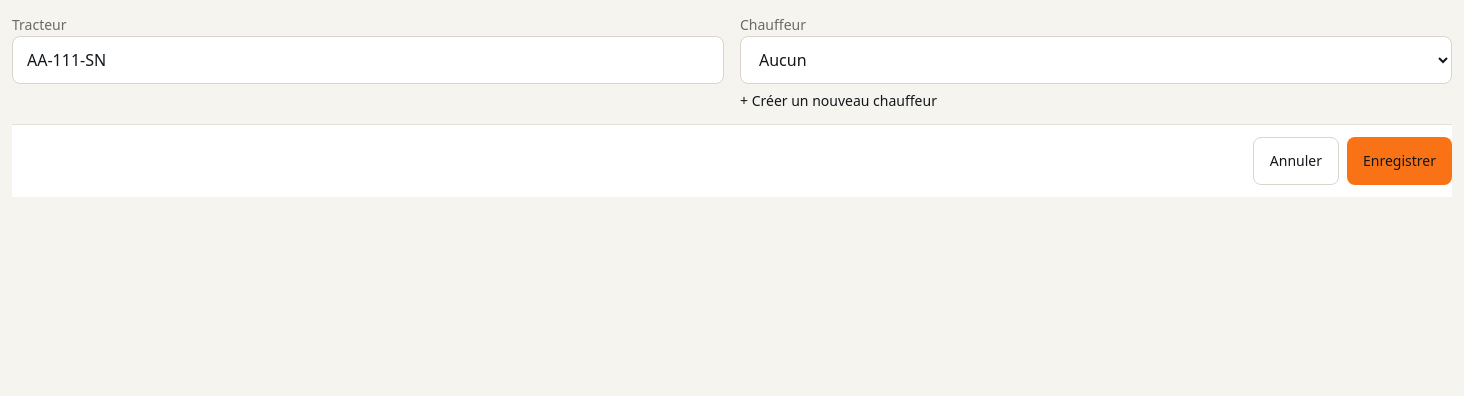
it: EntityForm › quick-create on a select field › creates the record, selects it, and never loses other form values already entered
The width and height of the screenshot is (1464, 396).
Click the button with test id "quick-create-toggle-default_driver" at [838, 101], box top-left (740, 91), bottom-right (937, 111)
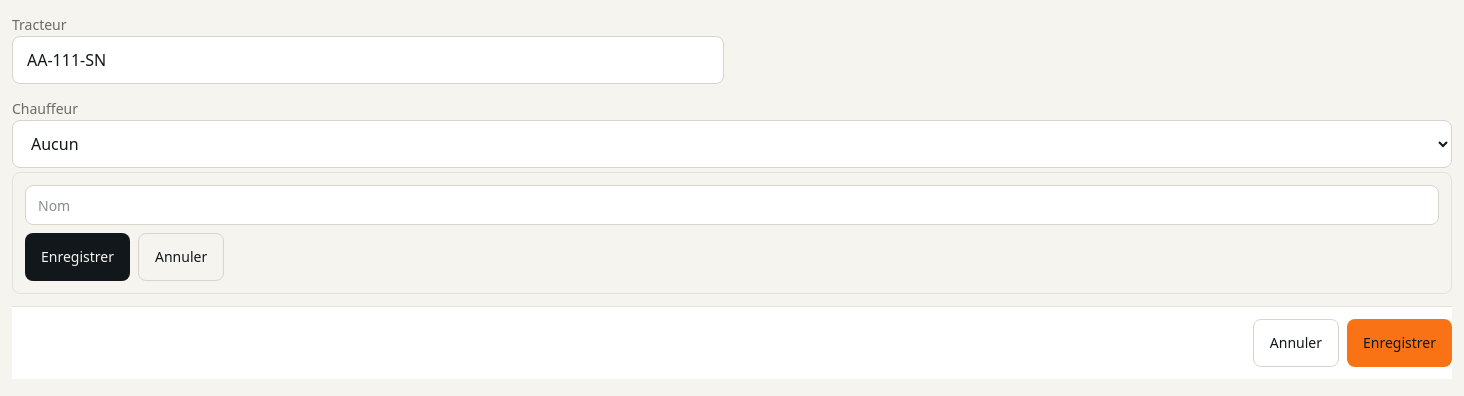
Type "Ibrahim Kone" into the field with id "default_driver_name" at [732, 205], box top-left (25, 185), bottom-right (1439, 225)
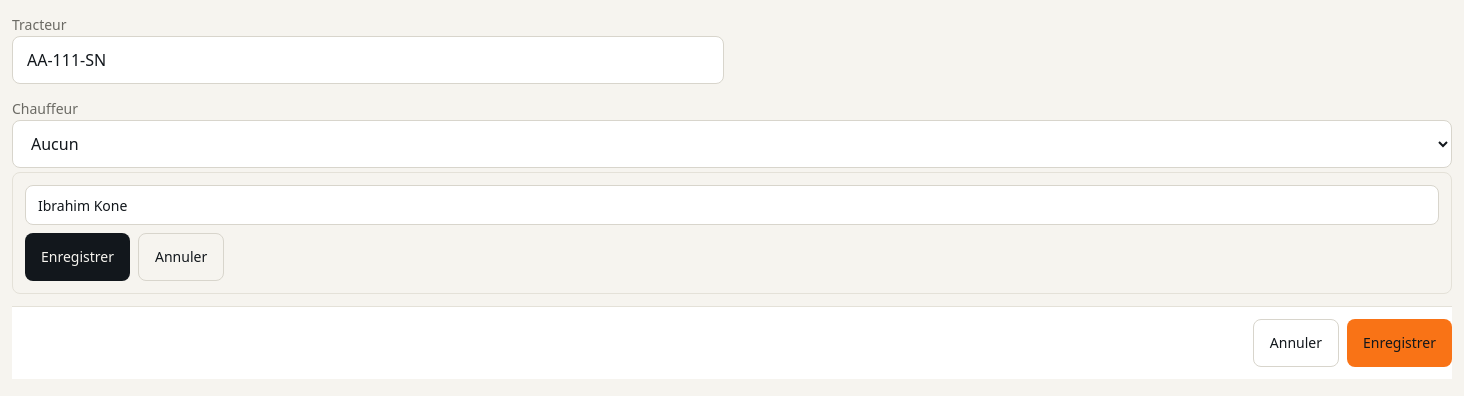
Click the button with test id "quick-create-submit-default_driver" at [78, 257], box top-left (25, 233), bottom-right (130, 281)
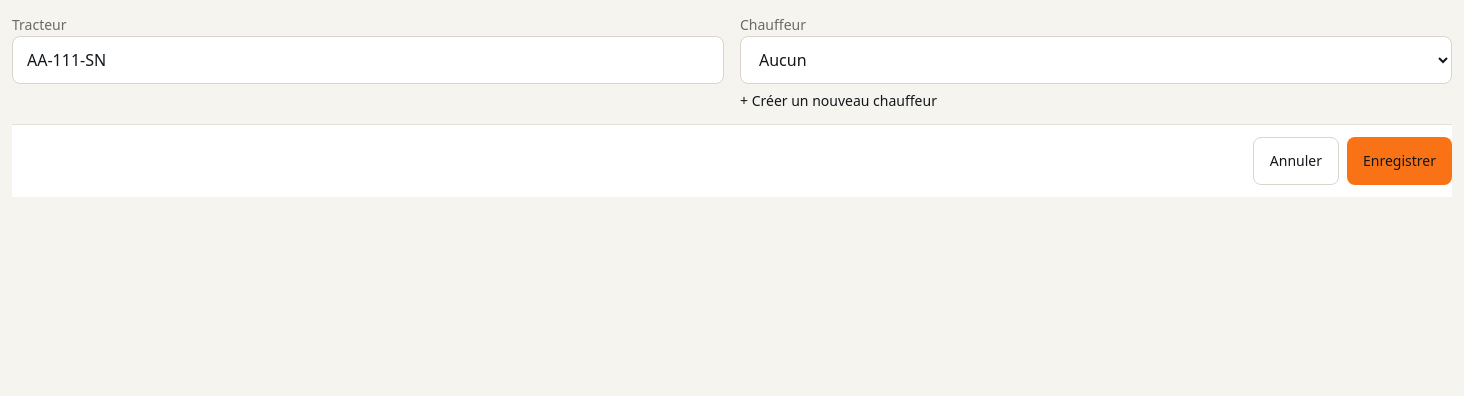
Check: the button with test id "quick-create-toggle-default_driver" is shown, box top-left (740, 91), bottom-right (937, 111)
